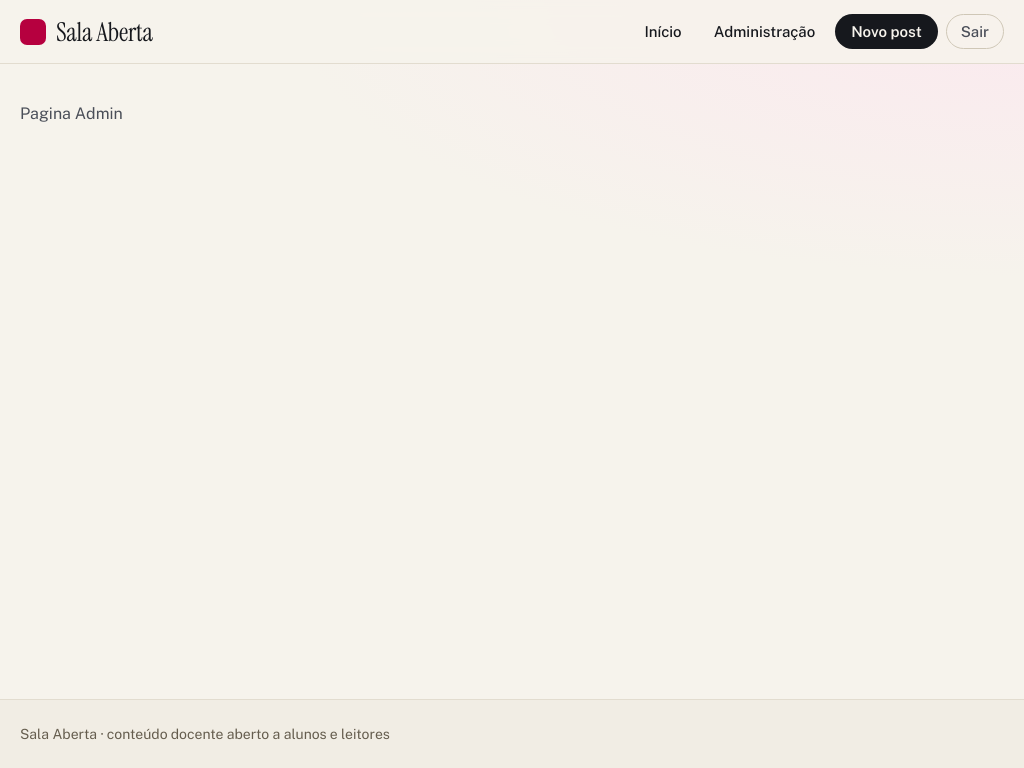
Test: clicar em "Sair" numa rota protegida leva para a pagina inicial, e nao para o login
Click the button "Sair" at coordinates (975, 32), box [946, 14, 1004, 49]
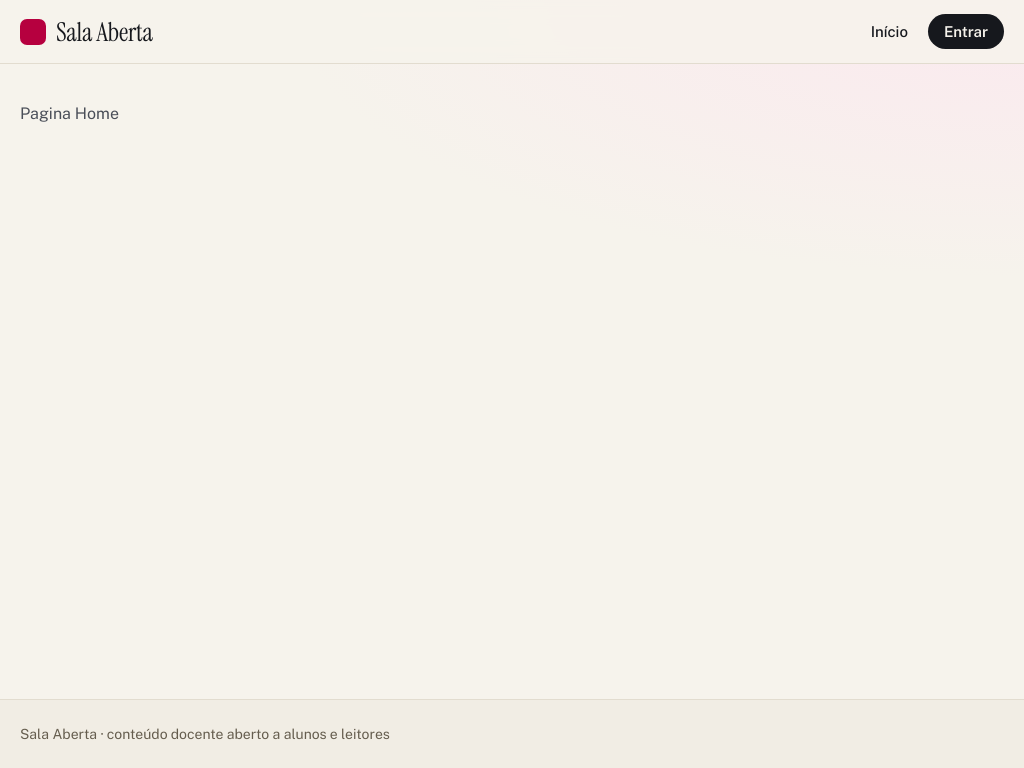
Expected: the text "Pagina Home" is shown, [20, 104, 119, 123]
